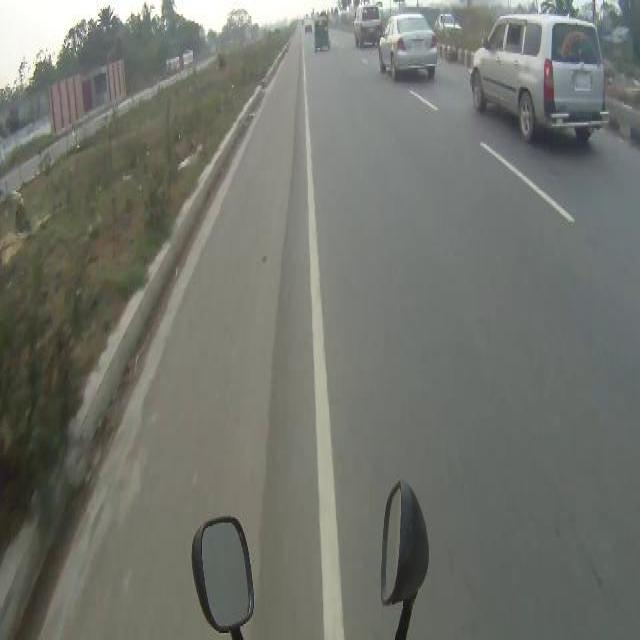car: (470, 15, 600, 141), (379, 14, 437, 78), (434, 12, 461, 30), (304, 23, 312, 30)
three wheelers -CNG-: (313, 15, 329, 49)
van: (353, 4, 381, 46)
